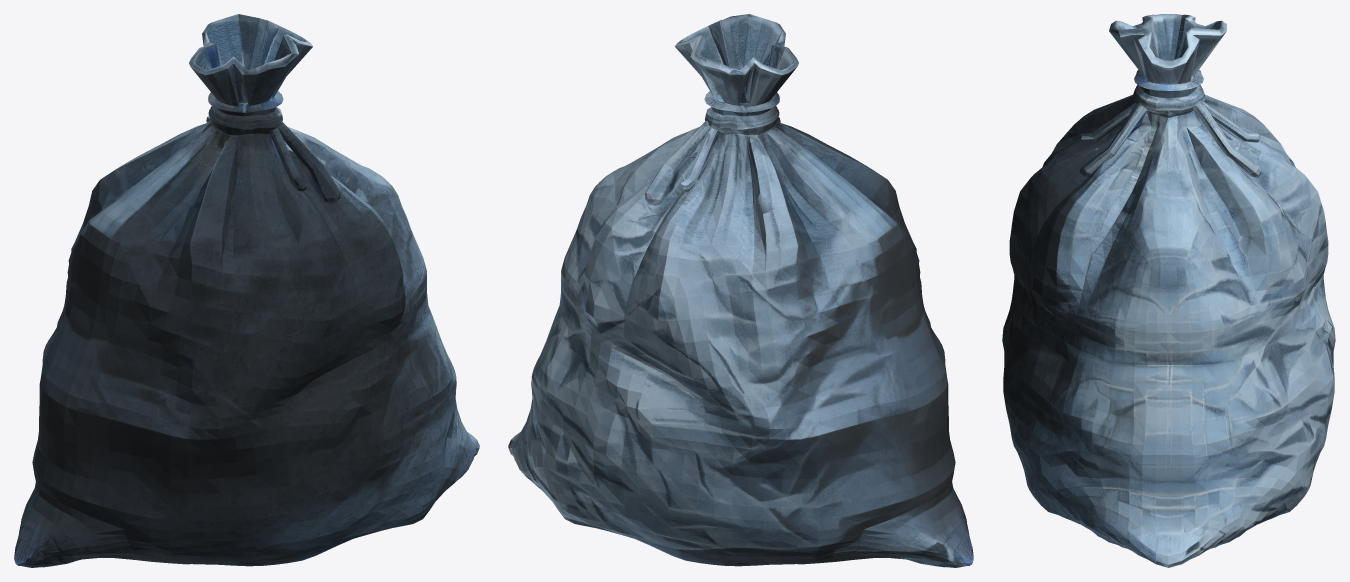
File: trash.glb
3 views of the same model, side by side, from view 1: azimuth 30°, elevation 25°; view 2: azimuth 150°, elevation 25°; view 3: azimuth 270°, elevation 25° (orthographic). The views are drawn at different scales.
Visible parts, largest first — view 1: Mesh_0.001; view 2: Mesh_0.001; view 3: Mesh_0.001.
Part boxes in pixels (x1,y1,x2,y2): Mesh_0.001: (14,14,479,567); Mesh_0.001: (508,14,973,567); Mesh_0.001: (1002,14,1335,567).
Size of the model in its own units: 0.5938 by 0.6 by 0.393.
Materials: 1 (1 with a texture image).
